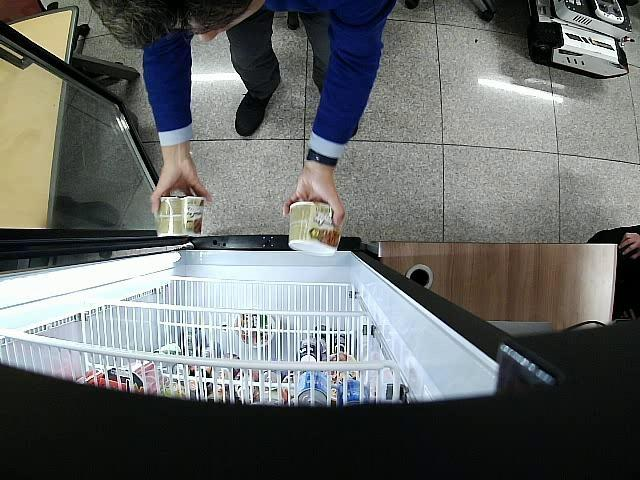03_chapagetti_L: (288, 201, 342, 255), (154, 197, 205, 237)
